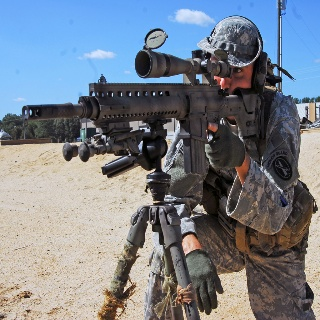rifle: (23, 27, 265, 320)
